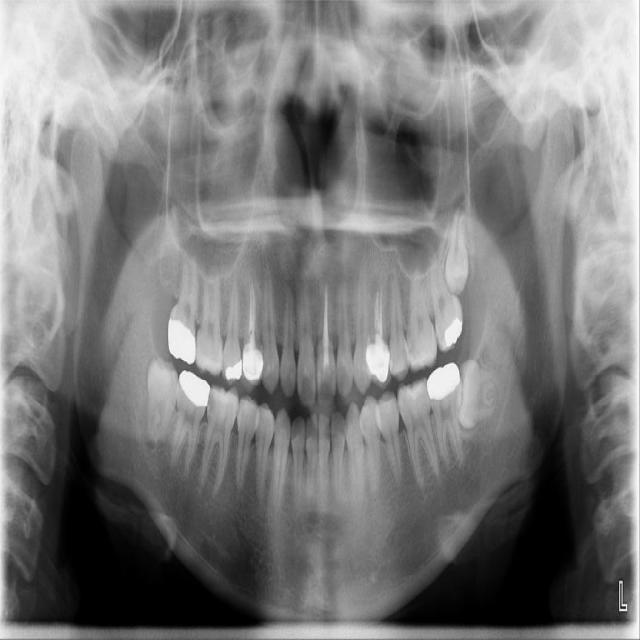52: (417, 357, 468, 405), (173, 363, 219, 413), (166, 317, 197, 365), (363, 344, 391, 383), (438, 316, 467, 351), (242, 343, 264, 382), (225, 359, 243, 382)
73: (366, 263, 388, 350), (240, 263, 262, 350), (318, 274, 333, 355), (594, 577, 602, 591)
BioHorizons Implant: (424, 251, 468, 355)
BioLife Implant: (444, 206, 471, 296)
Biomet 3i Implant: (454, 358, 500, 432)
Blue Sky Bio Implant: (423, 361, 474, 473)
Caries: (166, 263, 199, 365)
Implant: (163, 369, 213, 474)
Keystone Dental Implant: (146, 357, 180, 442)
